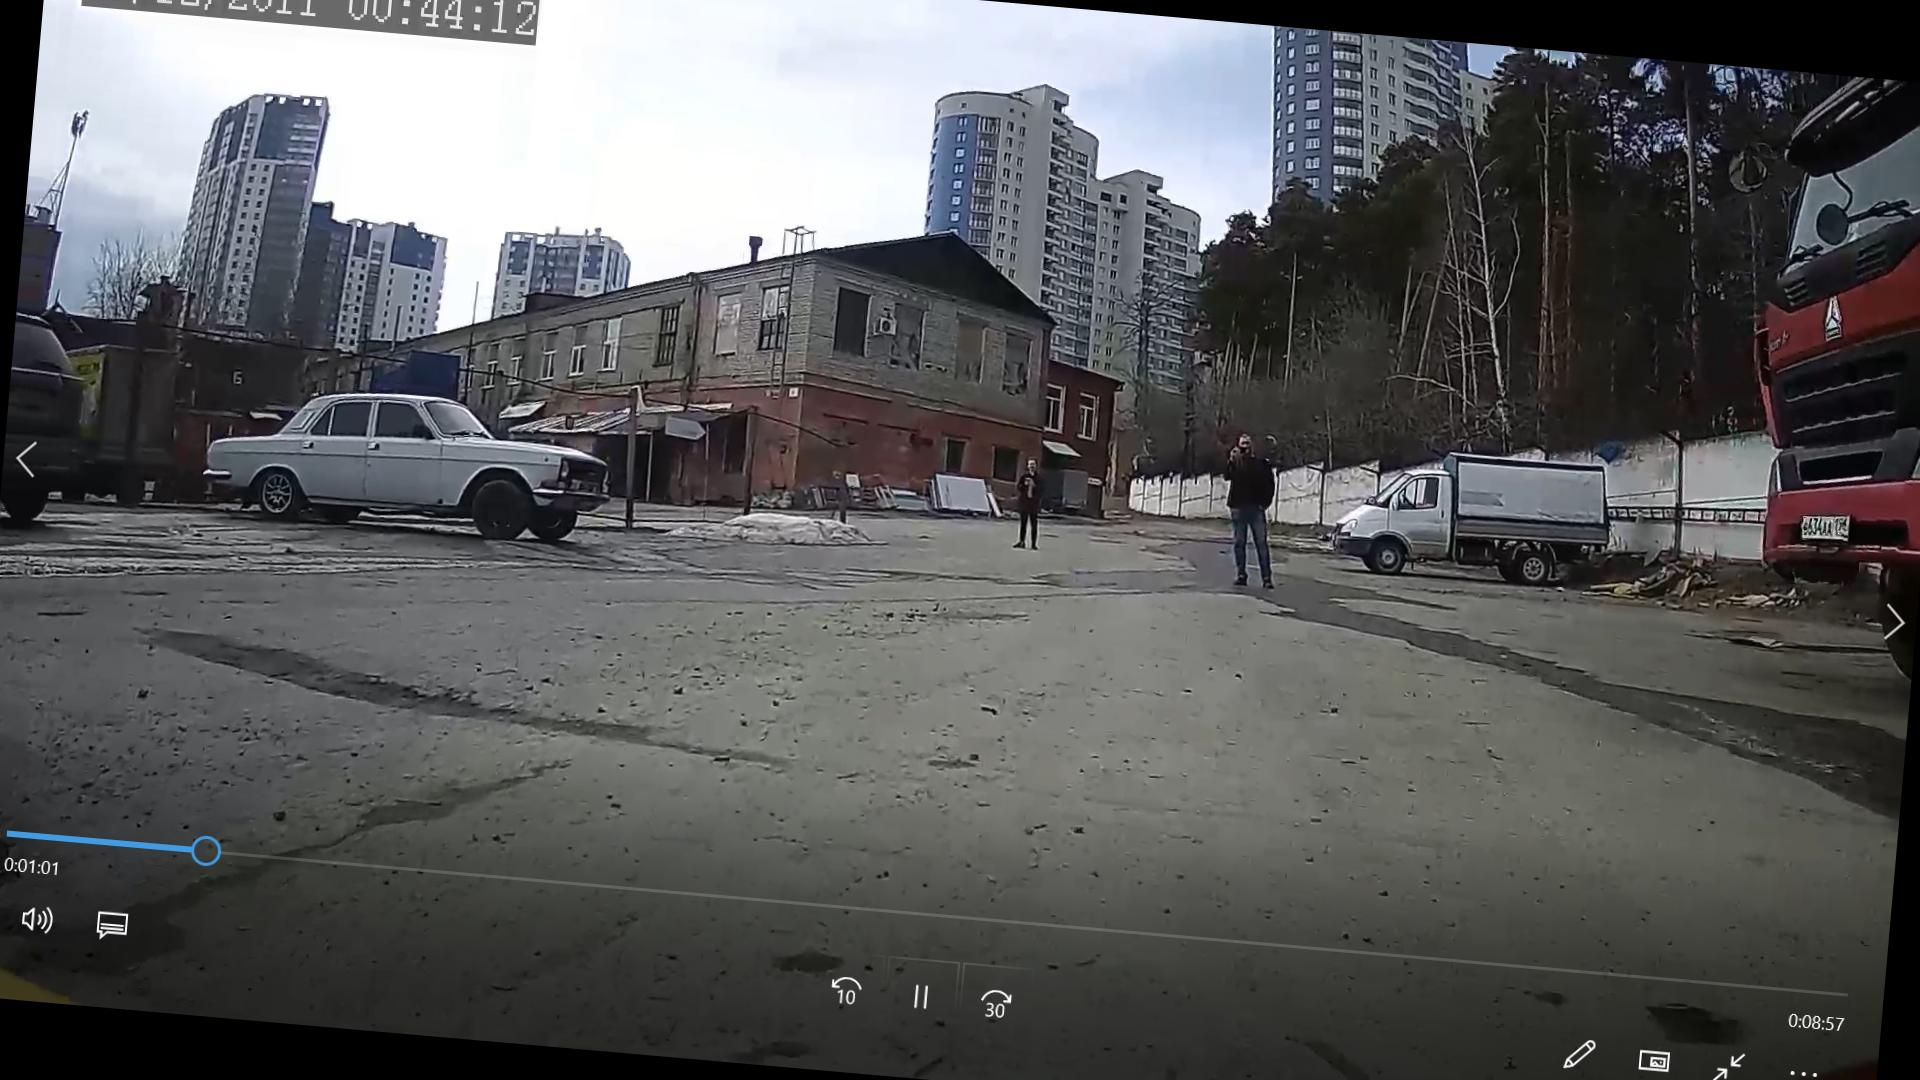plate: (1799, 517, 1847, 544)
